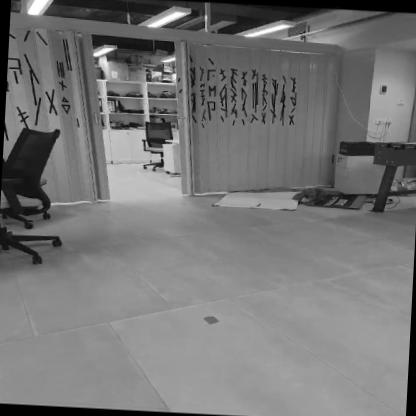open: (102, 38, 182, 199)
